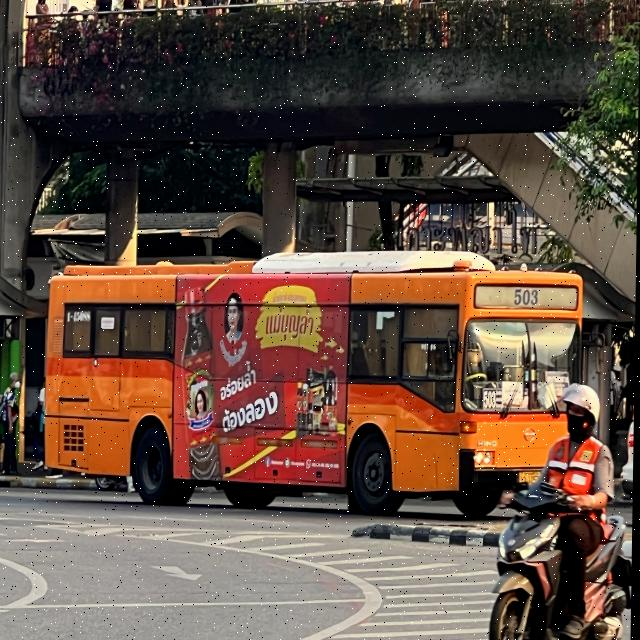BMTA-bus: (42, 252, 586, 518)
Bus-Line-Number: (509, 283, 546, 310)
Destination-Sign-Normal: (544, 369, 571, 396)
